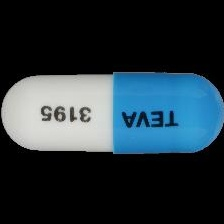68788-9088: (0, 0, 224, 224)
